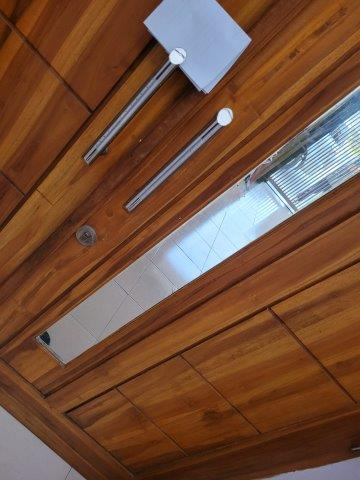kertas: (143, 1, 252, 93)
